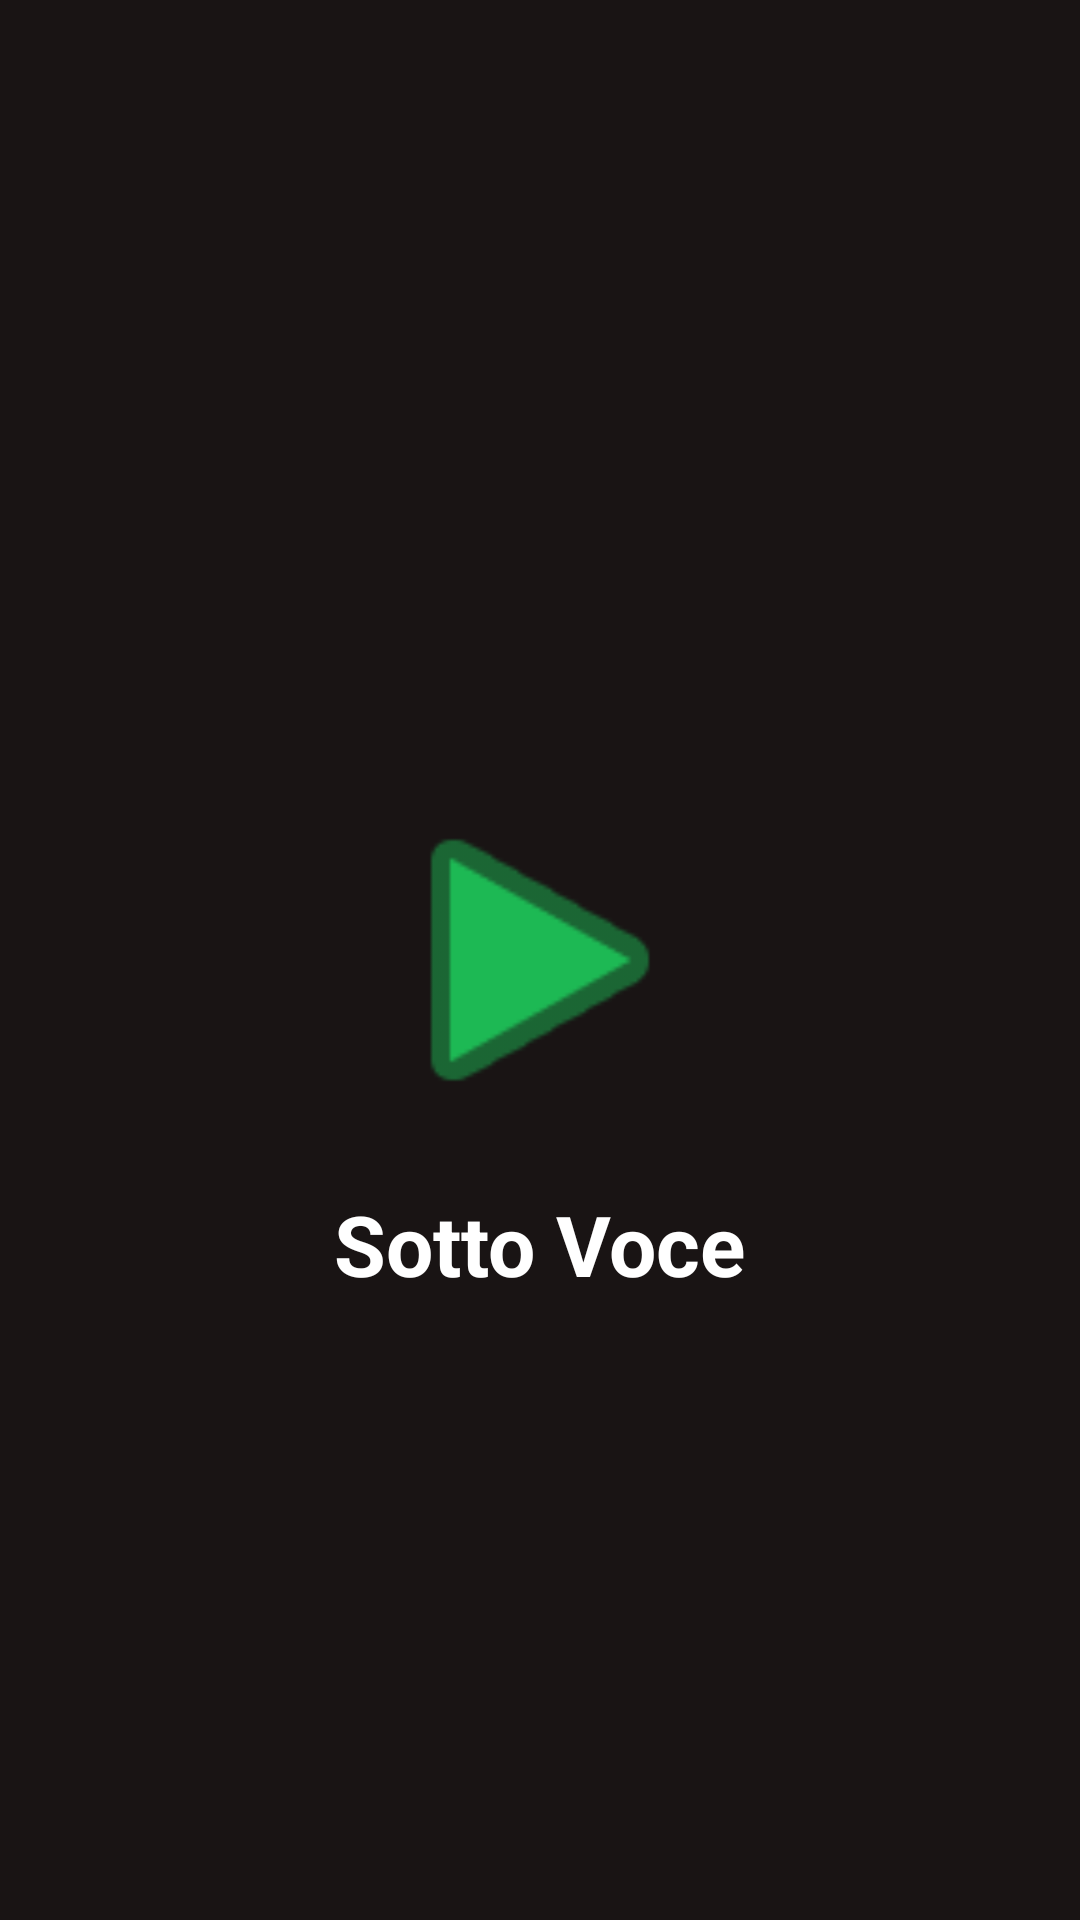

Named icons in this screenshot (1080×1920) and their bounding boxes, {"x1": x1, "y1": y1, "x2": x2, "y2": y2}:
play: {"x1": 430, "y1": 839, "x2": 650, "y2": 1081}
